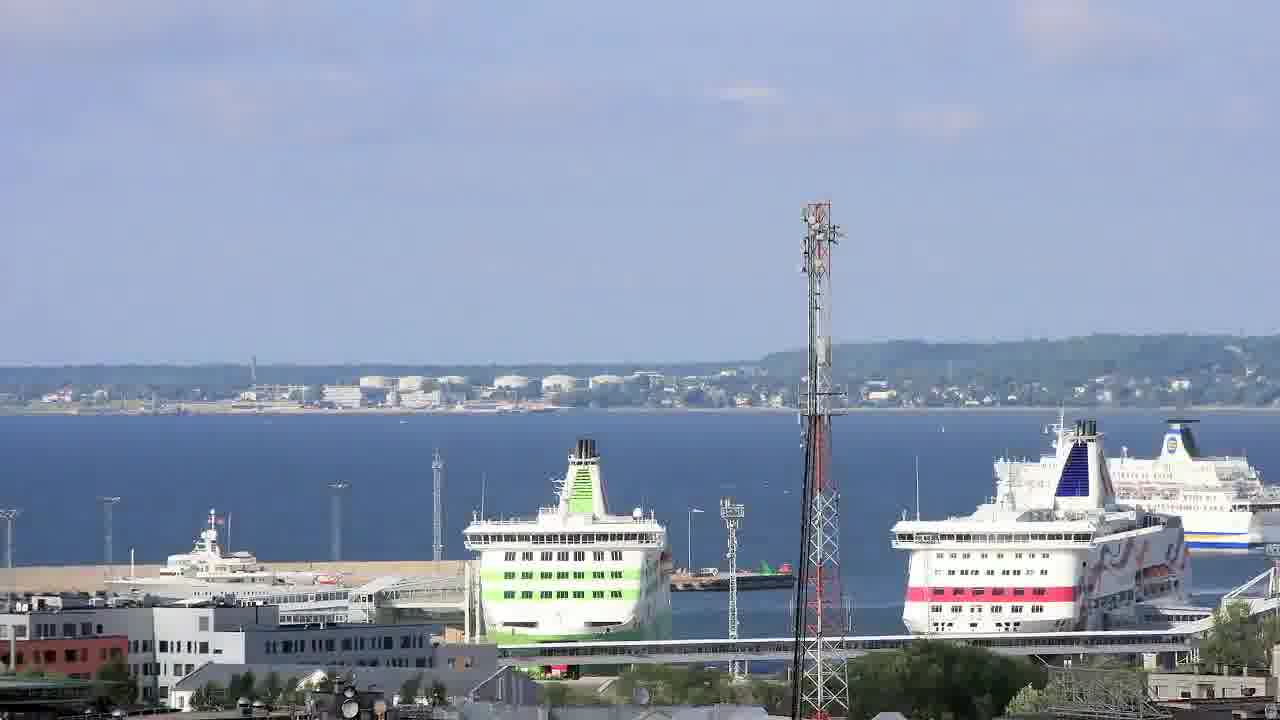type-3: (868, 415, 1225, 638), (436, 434, 694, 670), (989, 383, 1279, 572), (85, 504, 344, 612)
